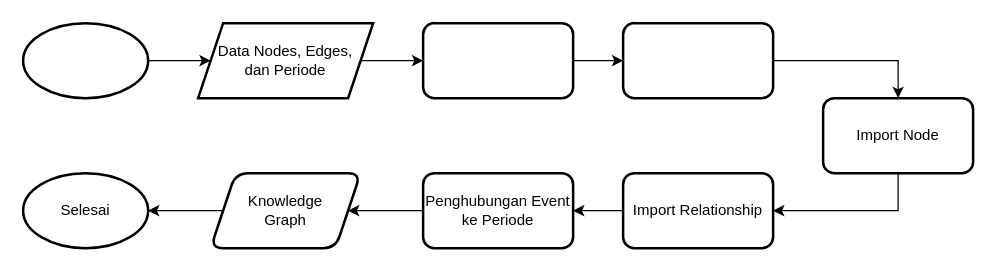
This 995x270 diagram has some shape labels left out. Here are the shapes that lost their labels. From the top down, the centre of each, then its label:
At [85,60]: "Mulai".
At [497,60]: "Perancangan Skema Graf".
At [697,60]: "Inisialisasi Neo4j".
